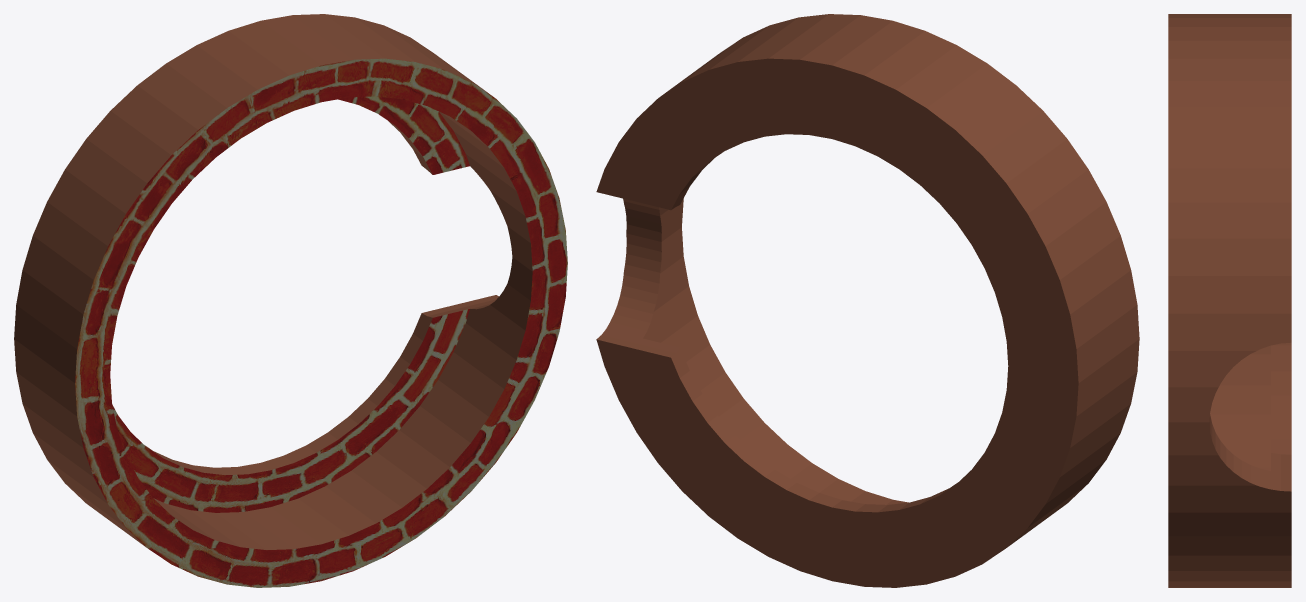
File: pool_075.obj
3 renders of one model, left to right at view 1: azimuth 30°, elevation 25°; view 2: azimuth 150°, elevation 25°; view 3: azimuth 270°, elevation 25°, orthographic.
Size of the model in its own units: 14 by 14 by 3.
